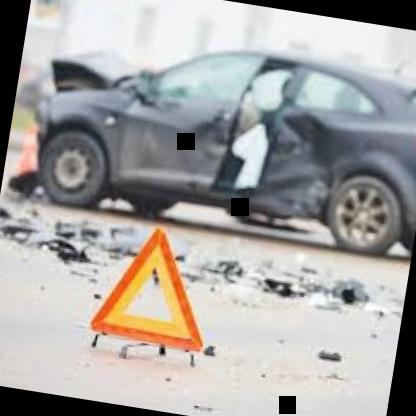accident: (17, 14, 416, 305)
